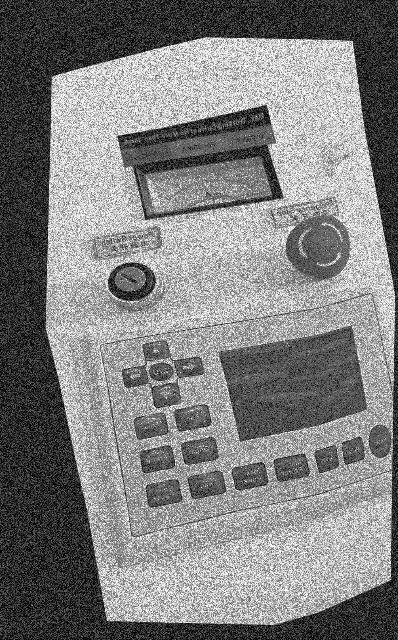Amp_Meter: (143, 153, 273, 215)
Display: (220, 327, 367, 440)
Down_button: (152, 383, 181, 408)
Emergency_Stop: (286, 215, 350, 279)
Enter_button: (134, 413, 168, 439)
Esc_button: (175, 405, 211, 431)
File_button: (188, 471, 226, 498)
Frame_button: (140, 446, 175, 473)
Left_button: (175, 357, 204, 377)
Max-Power_button: (232, 463, 268, 490)
Min-Power_button: (274, 454, 309, 481)
Origin_button: (182, 437, 218, 464)
Power_switch: (115, 266, 146, 292)
Pulse_button: (342, 437, 364, 464)
Reset_button: (369, 425, 392, 458)
Right_button: (122, 366, 148, 387)
Speed_button: (315, 446, 339, 473)
Start-Pause_button: (146, 480, 182, 507)
Up_button: (143, 341, 170, 361)
Z_U_button: (150, 362, 173, 381)
